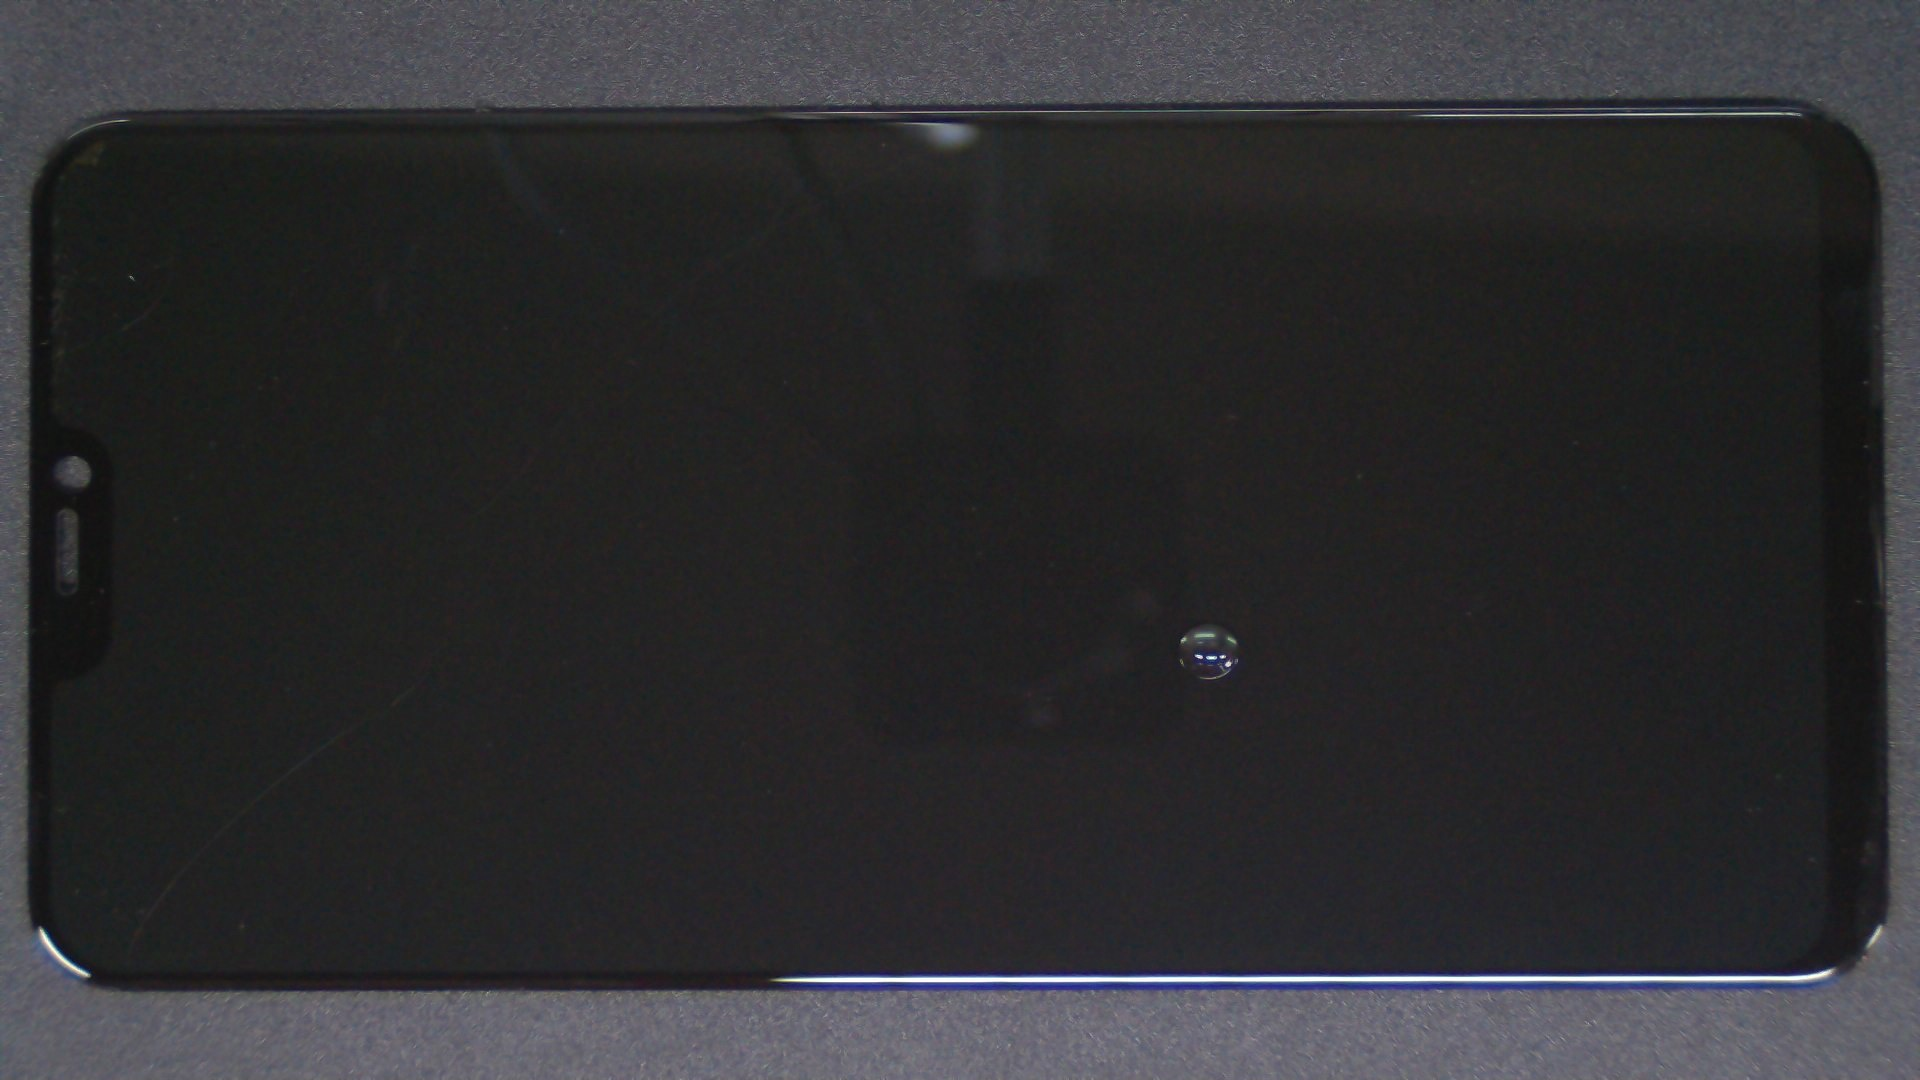oil: (604, 311, 1811, 935)
